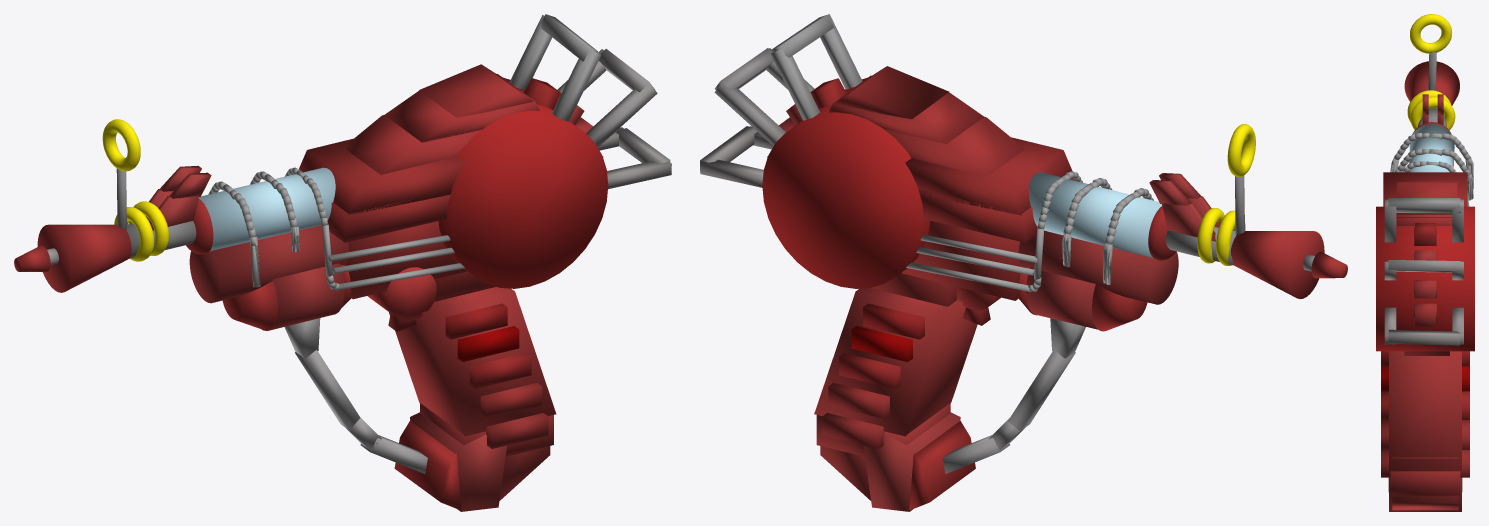
The model's file is ray_gun.glb.
3 renders of one model, left to right at view 1: azimuth 30°, elevation 25°; view 2: azimuth 150°, elevation 25°; view 3: azimuth 270°, elevation 25°, orthographic. The views are drawn at different scales.
Parts seen in each view (by area): view 1: Sphere, CurveCircle.001; view 2: Sphere, CurveCircle.001; view 3: Sphere, CurveCircle.001.
Part boxes in pixels (x1,y1,x2,y2): Sphere: (14,14,671,511); CurveCircle.001: (102,119,168,261); Sphere: (700,14,1347,511); CurveCircle.001: (1197,124,1255,265); Sphere: (1376,52,1474,511); CurveCircle.001: (1407,14,1455,130).
Bounding box in the file's own units: 1.52 × 1.05 × 0.261.
